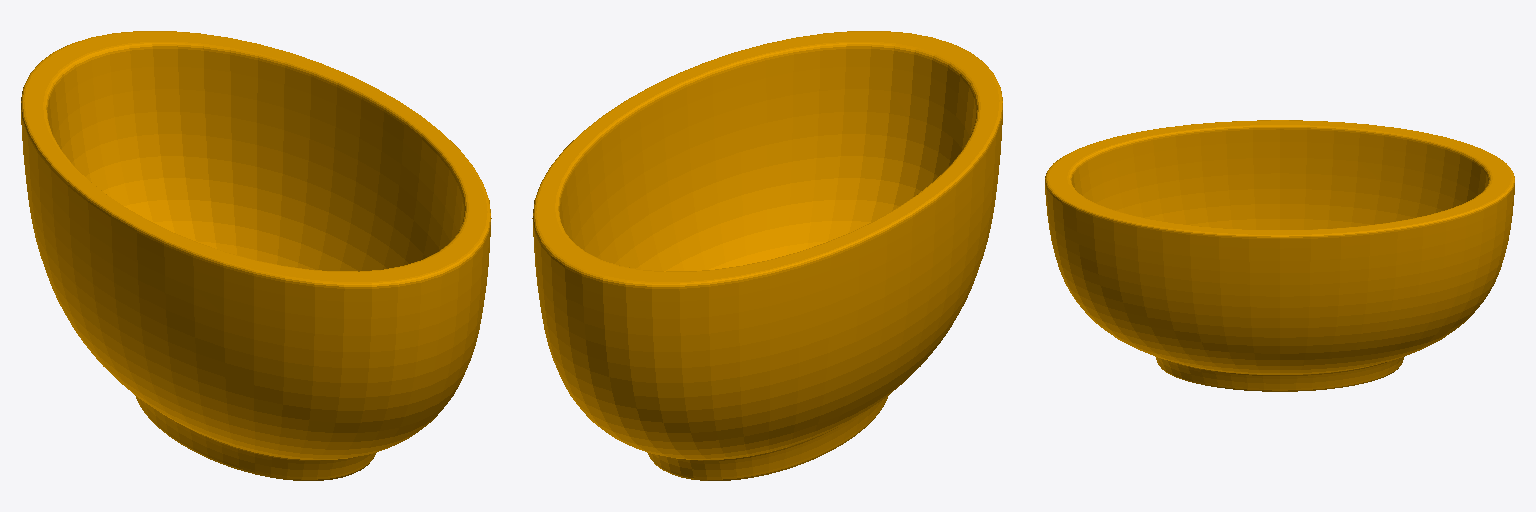
URDF robot description (mesh_object):
<robot name="mesh_object">
            <link name="base">
                <visual>
                    <geometry>
                        <mesh filename="basket_1_v000.obj" scale="1 1 1" />
                    </geometry>
                </visual>
                <collision>
                    <geometry>
                        <mesh filename="basket_1_v000.obj" scale="1 1 1" />
                    </geometry>
                </collision>
                <inertial>
                    <origin xyz="0.000000 0.000000 0.024033" rpy="0 0 0" />
                    <mass value="0.500000" />
                    <inertia ixx="0.01" iyy="0.01" izz="0.01" ixy="0" ixz="0" iyz="0" />
                </inertial>
            </link>
            </robot>

--- What the picture shows (computed from the rendered views, not written in the file) ---
Views: 3 orthographic renders of the robot side by side, from view 1: azimuth 30°, elevation 25°; view 2: azimuth 150°, elevation 25°; view 3: azimuth 270°, elevation 25°.
Robot: mesh_object — 1 links, 0 joints (none); root link base; default pose: all joints at 0.
Links seen in each view (by area): view 1: base; view 2: base; view 3: base.
Boxes of the visible links, <box> form: base: <box>21,31,491,480</box>; base: <box>532,31,1002,480</box>; base: <box>1045,120,1514,391</box>.
Size in the robot's own frame: 0.058 by 0.099 by 0.0428 metres.
1 mesh visuals loaded from 1 distinct referenced files (1 OBJ).
